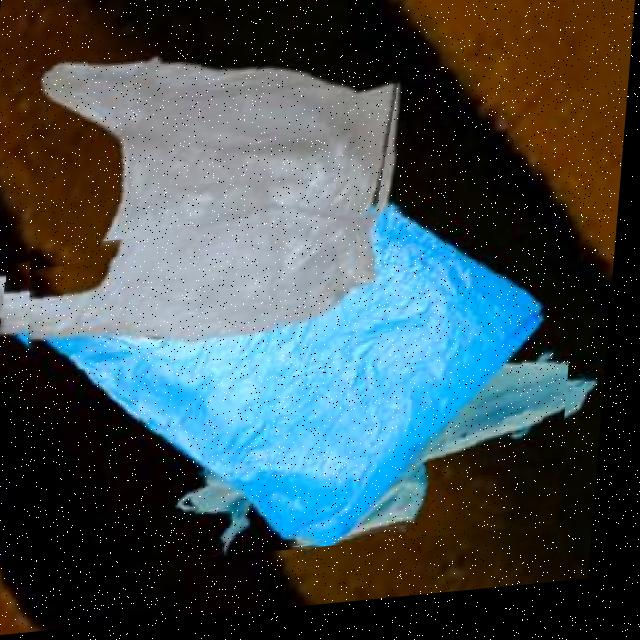litter: (13, 201, 586, 579), (0, 34, 408, 367)
